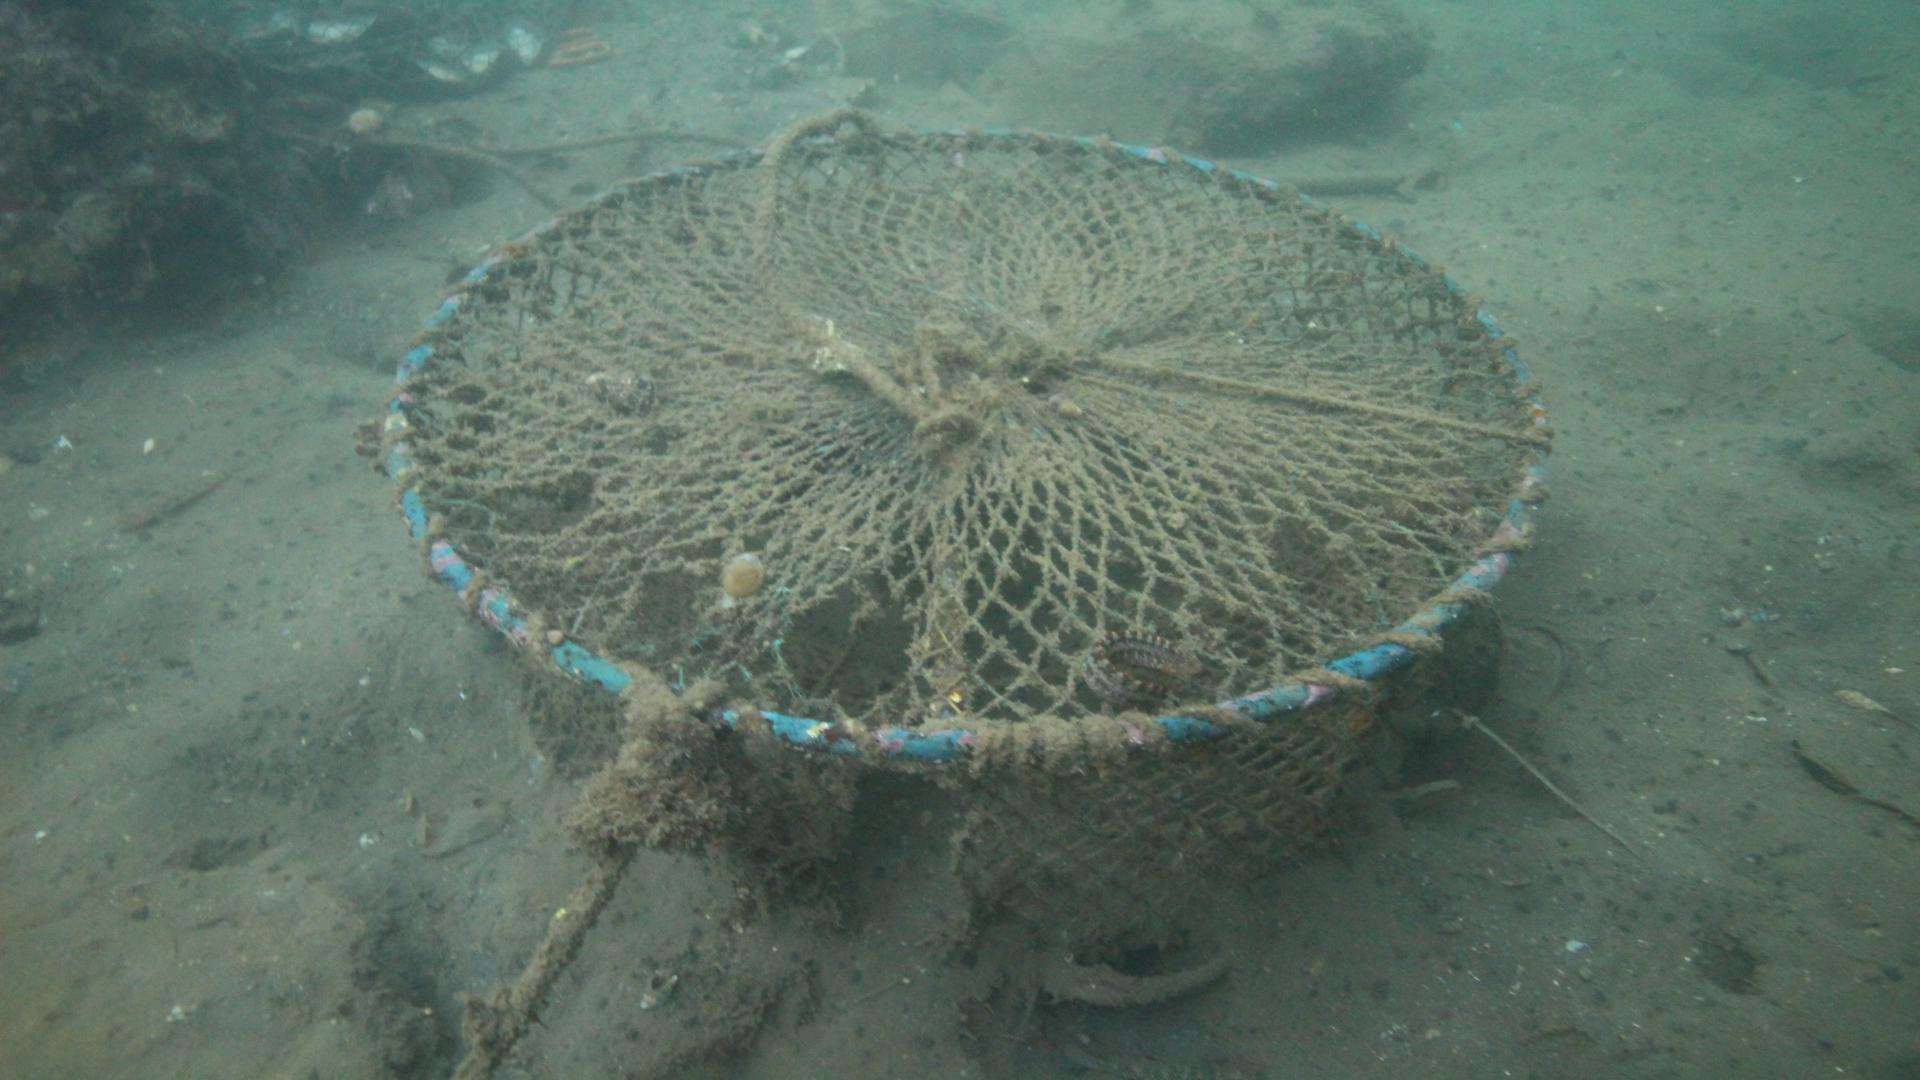circular fish trap: (372, 125, 1559, 938)
